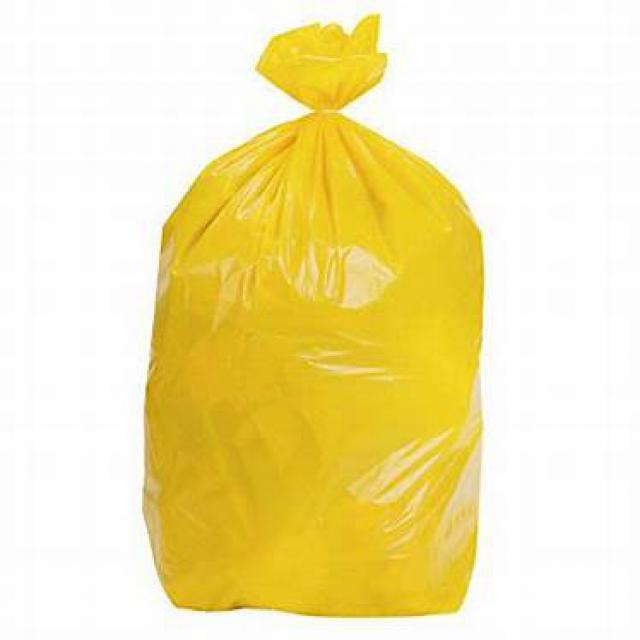waste: (140, 19, 480, 622)
